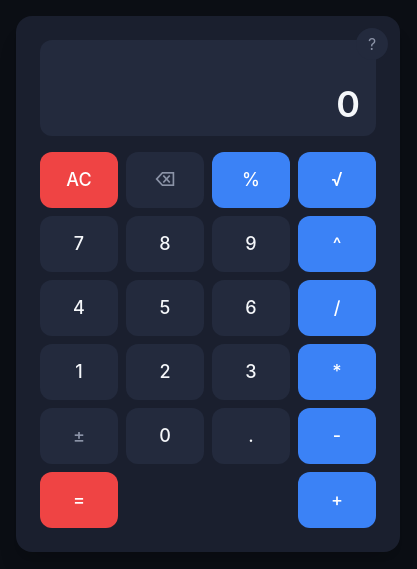
Test: CalculatorApp › renders the returned result large with the echoed operation small above it on success (FE-08)
Click the button "2" at point(165, 372), box [126,344,204,400]
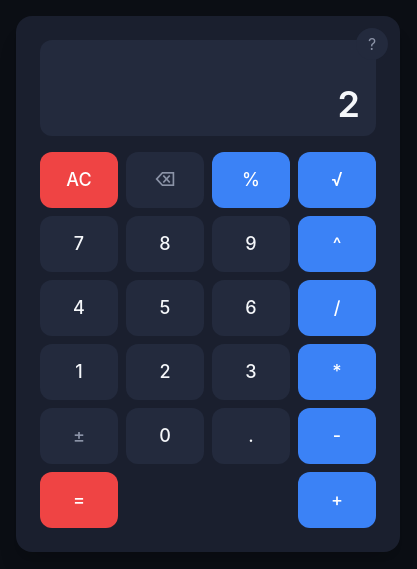
Click the button "+" at point(337, 500), box [298,472,376,528]
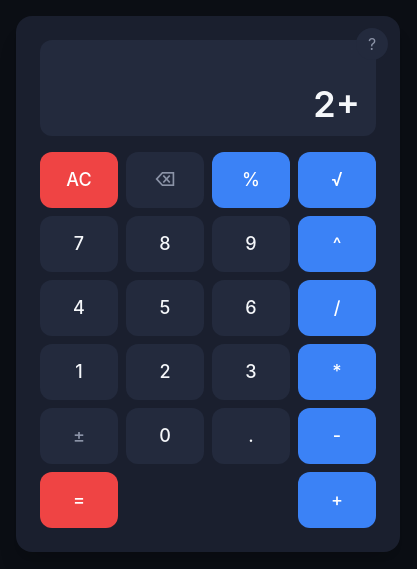
Click the button "2" at point(165, 372), box [126,344,204,400]
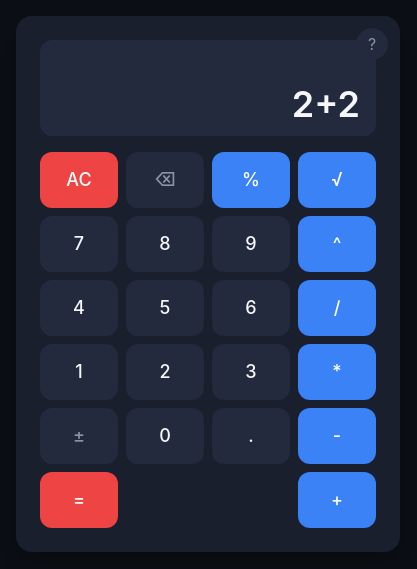
Click the button "=" at point(79, 500), box [40,472,118,528]
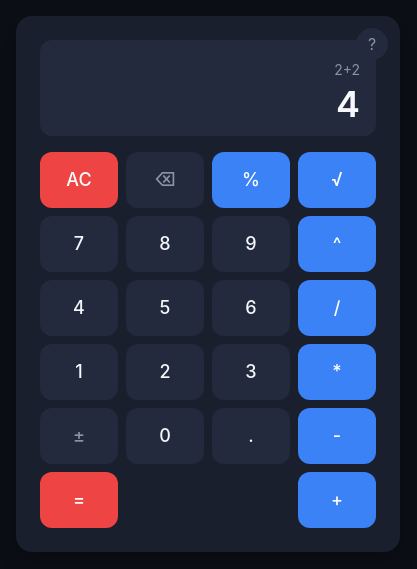
Check: the text "4" is shown, box [336,82,360,126]
Check: the text "2+2" is shown, box [334,61,360,78]
